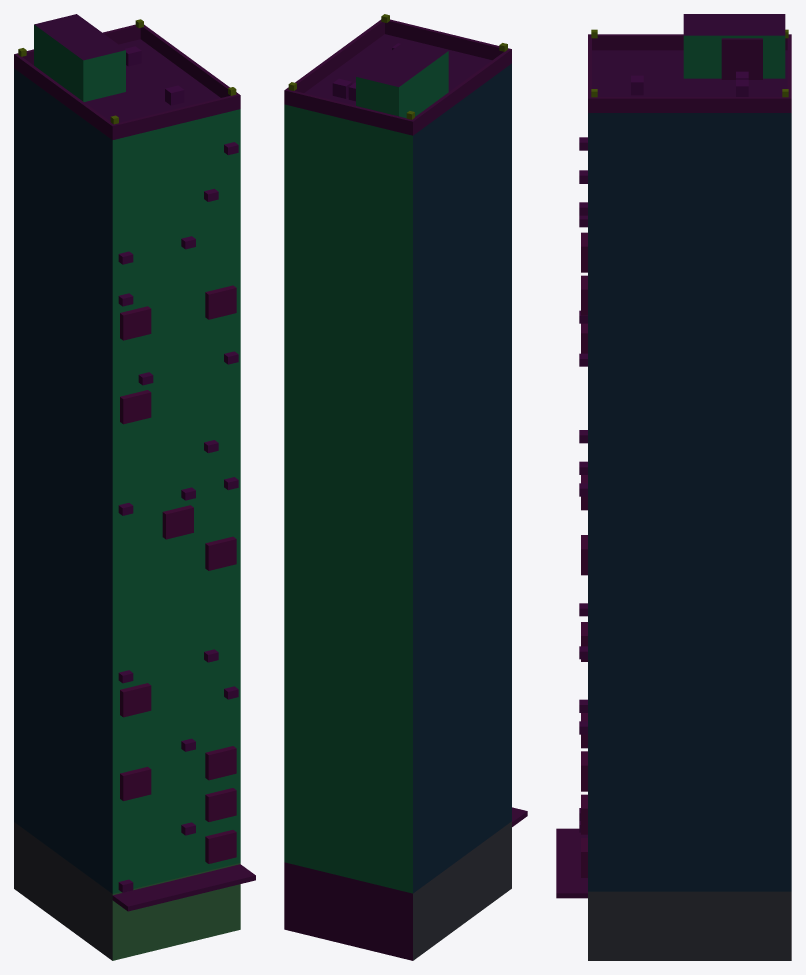
File: slab_e.lod1.glb
The picture shows the model from 3 angles, left to right: view 1: azimuth 30°, elevation 25°; view 2: azimuth 150°, elevation 25°; view 3: azimuth 270°, elevation 25°; orthographic projection. The views are drawn at different scales.
Parts seen in each view (by area): view 1: slab_e.lod1; view 2: slab_e.lod1; view 3: slab_e.lod1.
Boxes of the visible parts, <box> form: slab_e.lod1: <box>14,14,255,960</box>; slab_e.lod1: <box>284,14,527,960</box>; slab_e.lod1: <box>556,14,791,960</box>.
Size of the model in its own units: 9.6 by 61.8 by 14.8.
